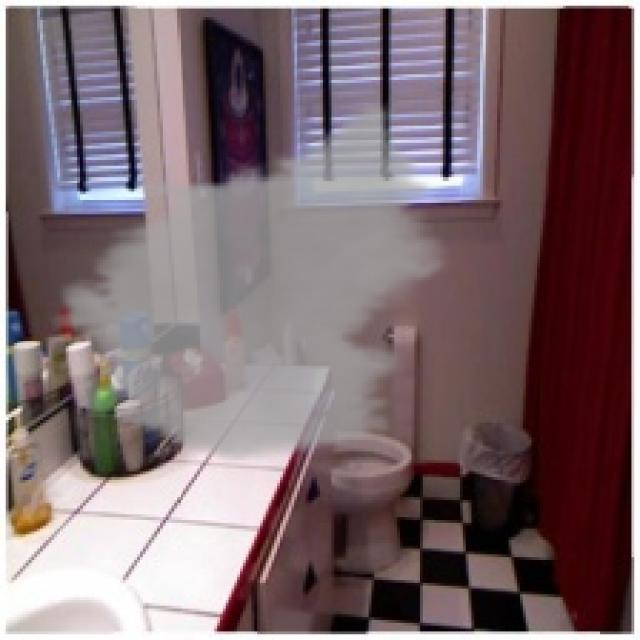smoke: (46, 100, 460, 466)
